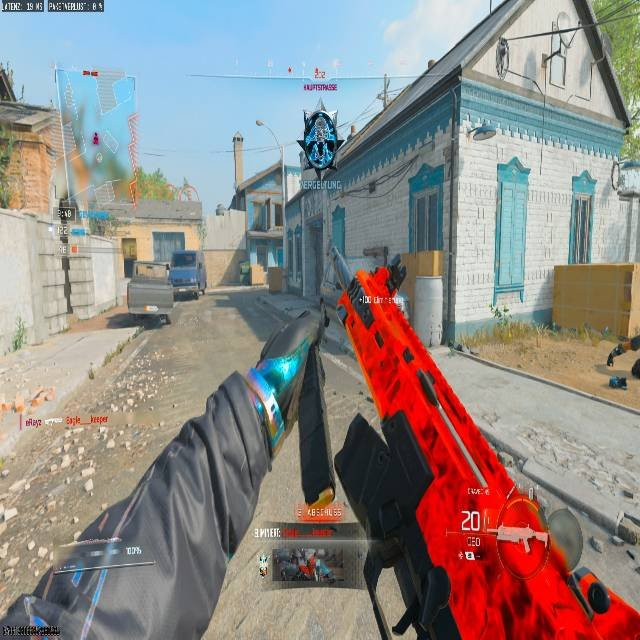player: (299, 106, 340, 176), (490, 304, 512, 326)
